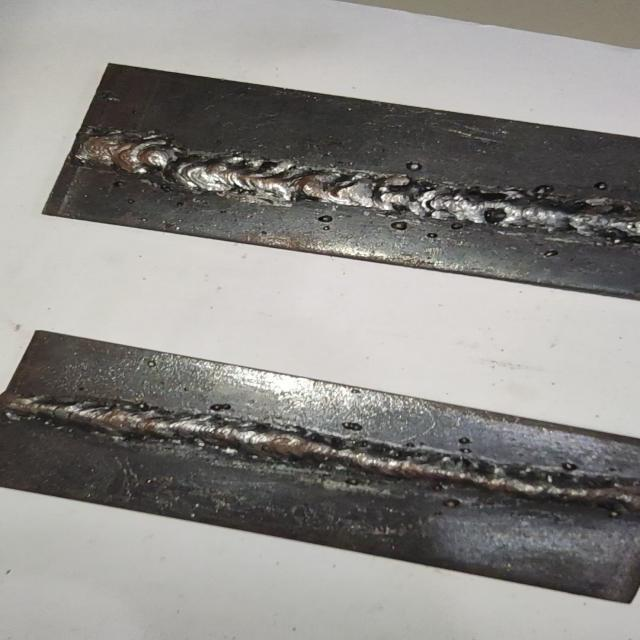Defect: (479, 182, 559, 238), (541, 452, 612, 488), (423, 470, 471, 517), (378, 201, 426, 235), (386, 160, 436, 186)
Welding Line: (2, 395, 640, 510), (71, 124, 640, 247)
Workpiece: (0, 330, 640, 606), (38, 60, 640, 304)
